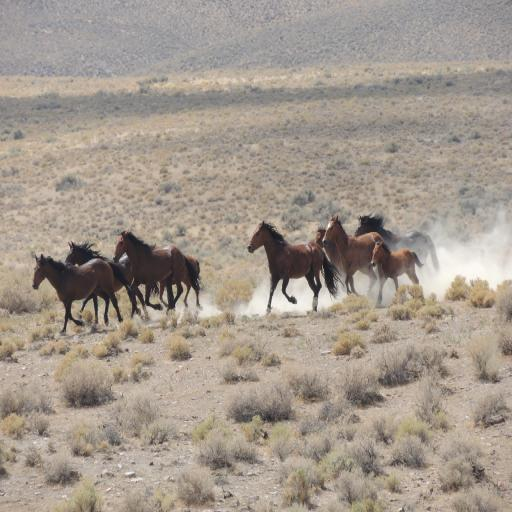horse: (246, 218, 344, 311), (30, 252, 134, 338), (62, 239, 160, 328), (110, 226, 203, 312), (354, 210, 440, 290), (319, 214, 388, 295), (120, 243, 202, 310), (369, 240, 426, 306), (158, 256, 204, 312), (313, 226, 344, 288)
